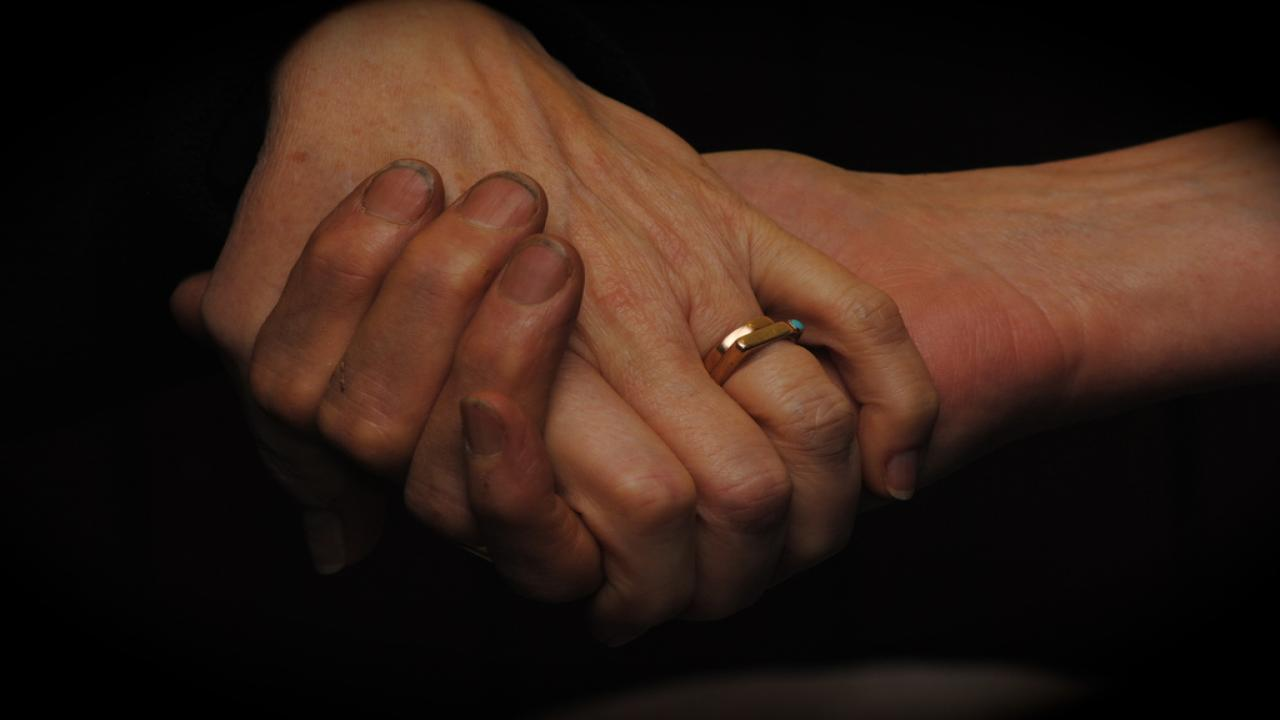ring: (710, 307, 806, 383)
